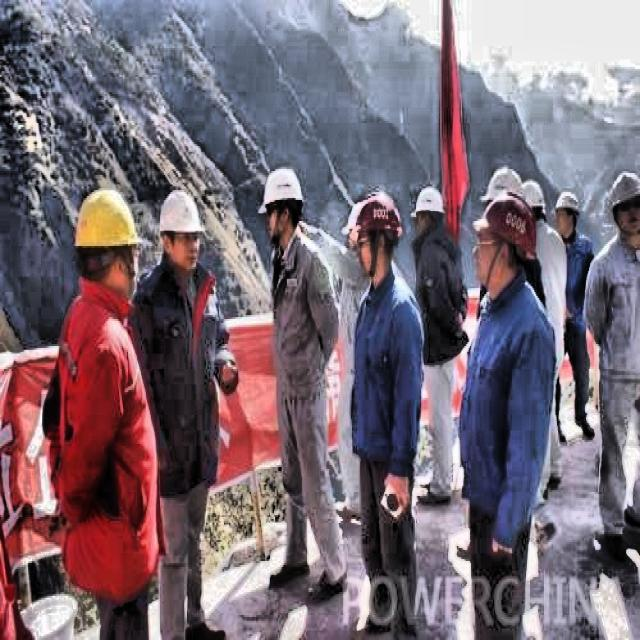helmet: (72, 180, 143, 306), (471, 192, 533, 296), (353, 188, 402, 284), (156, 186, 205, 277), (260, 161, 307, 248), (603, 163, 639, 246), (412, 179, 448, 248), (550, 187, 582, 242), (521, 173, 547, 240)
